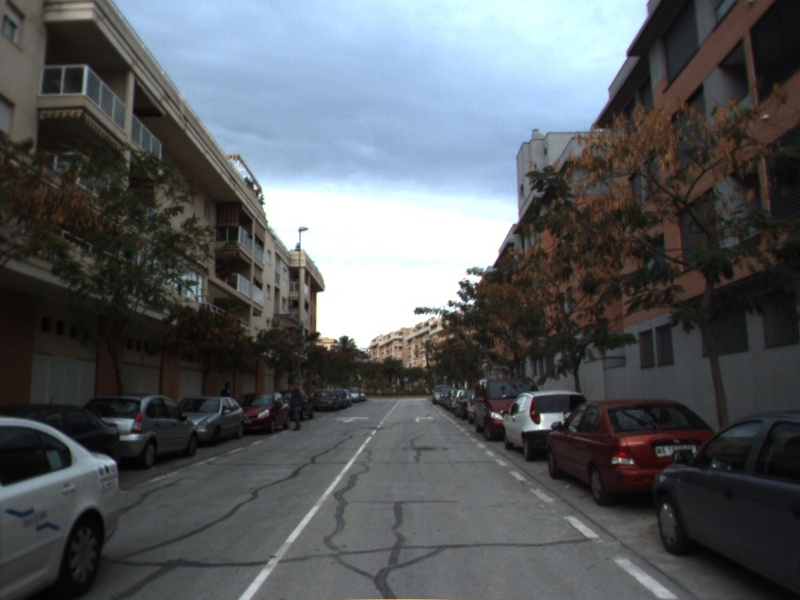RIGHT: (413, 413, 437, 424)
